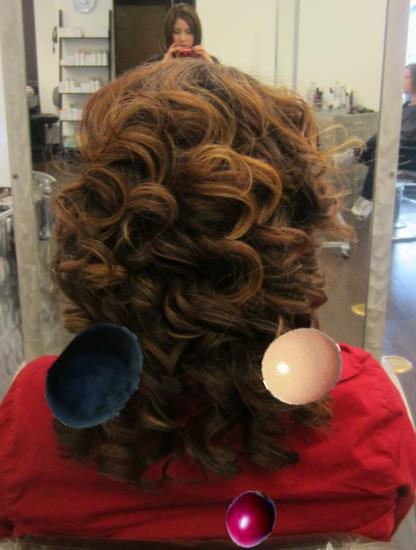Blueberry: (39, 320, 154, 435)
Grapefruit: (260, 324, 344, 408)
Tamarillo: (221, 489, 281, 549)
